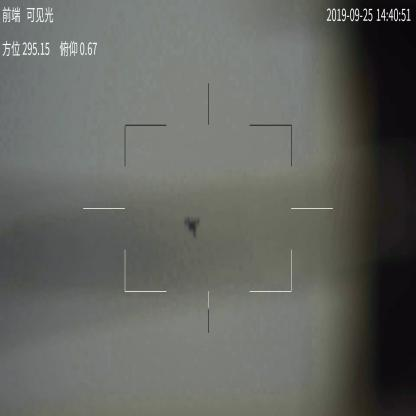uav: (183, 214, 203, 240)
